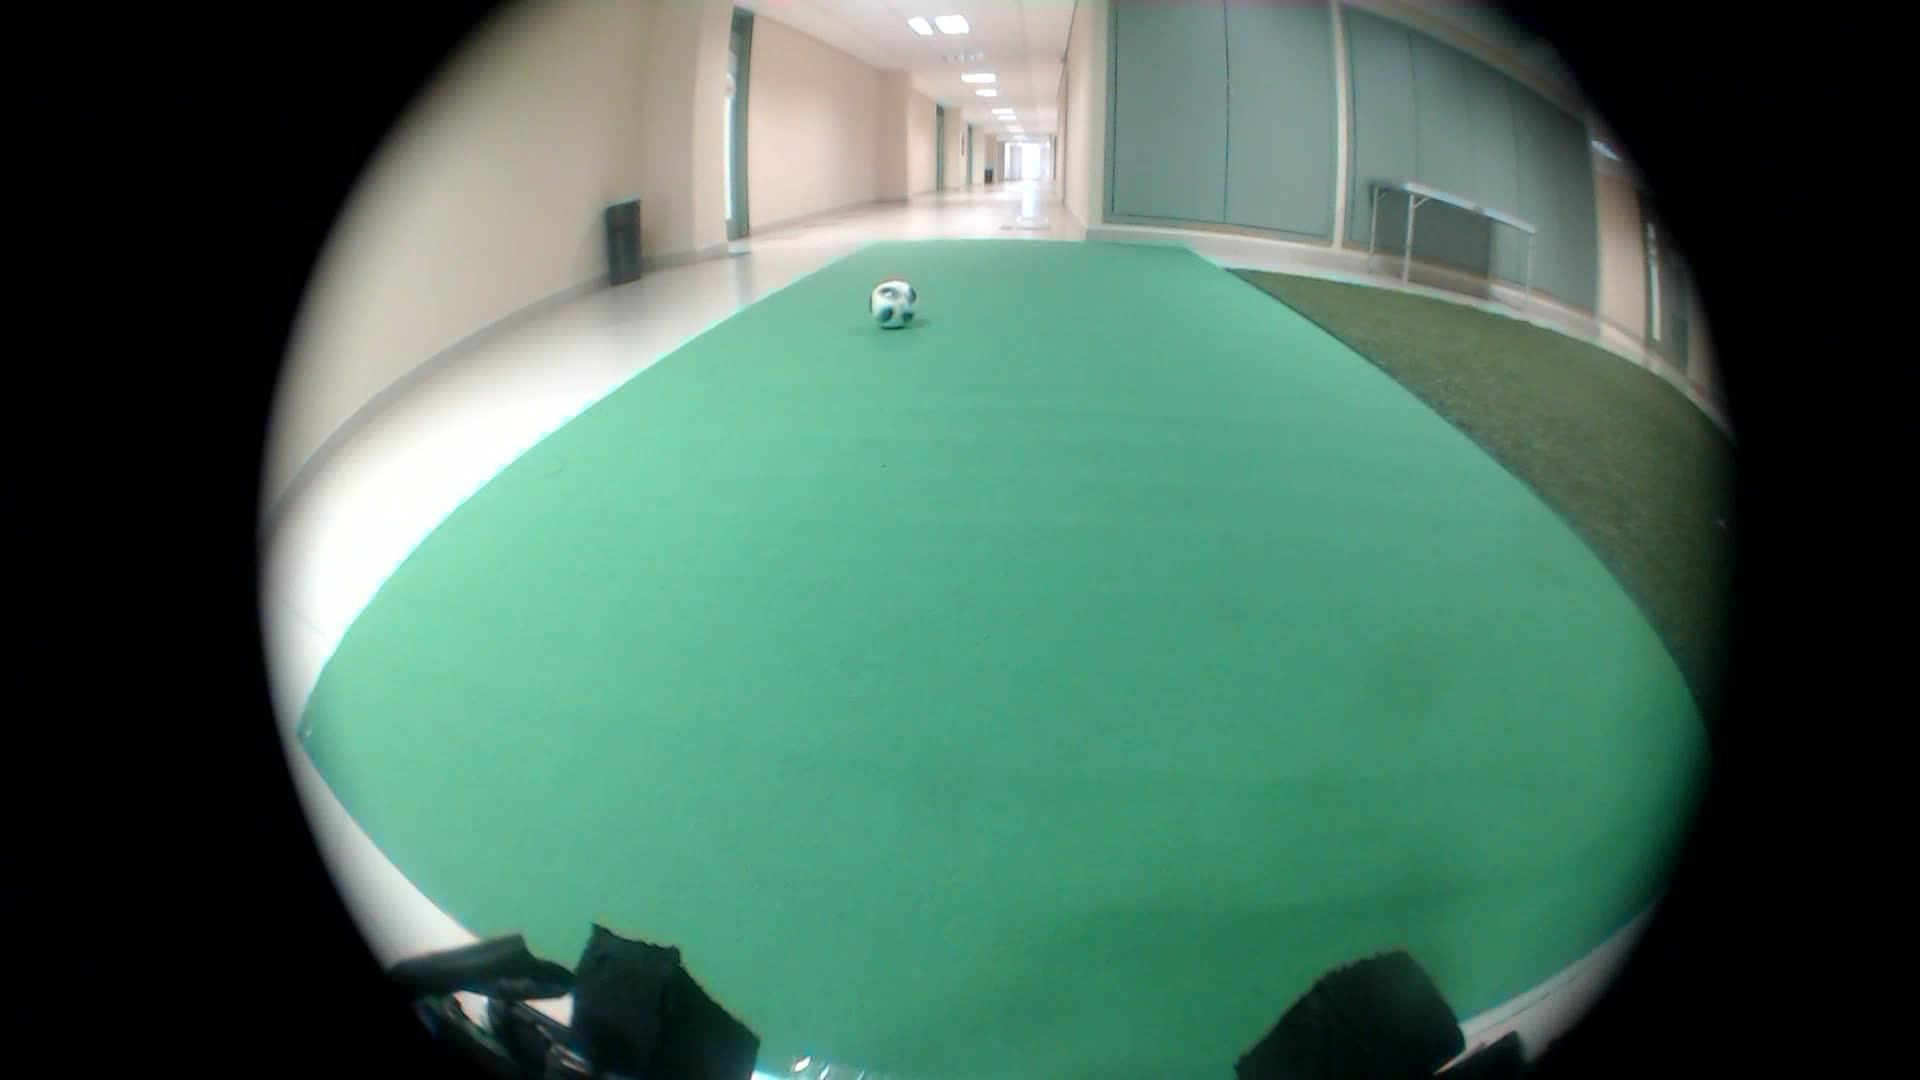ball: (855, 266, 926, 339)
